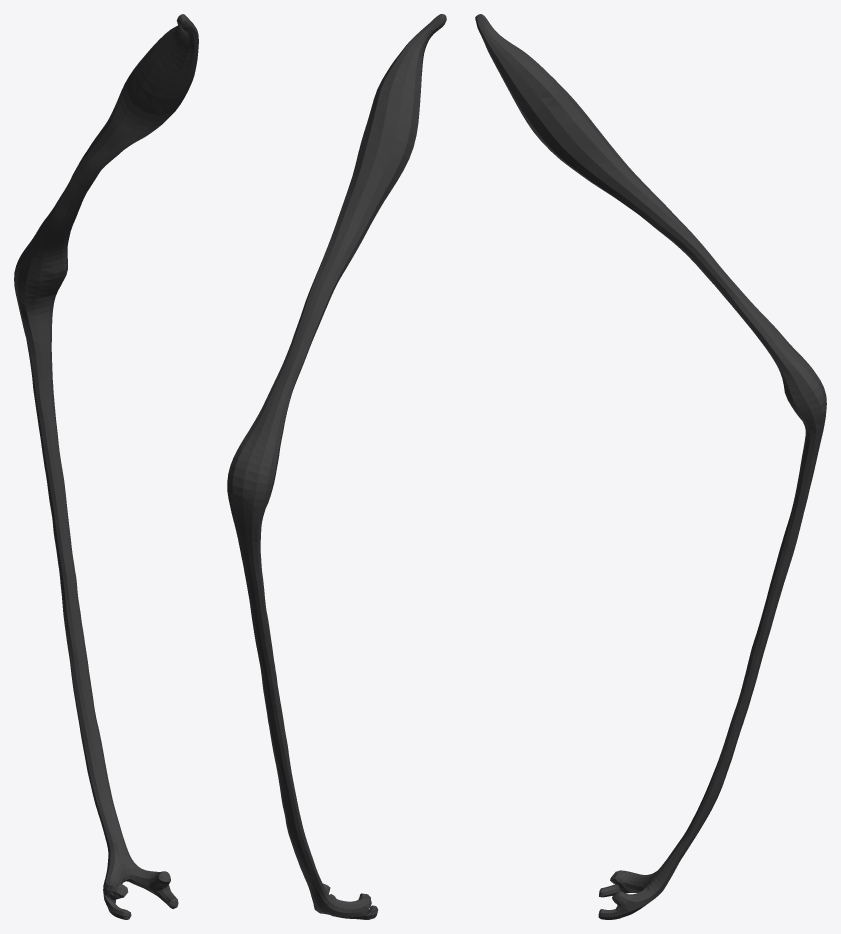
File: SDF.glb
3 renders of one model, left to right at view 1: azimuth 30°, elevation 25°; view 2: azimuth 150°, elevation 25°; view 3: azimuth 270°, elevation 25°, orthographic. The views are drawn at different scales.
Visible parts, largest first — view 1: SDF; view 2: SDF; view 3: SDF.
Part boxes in pixels (x1=…): SDF: x1=14, y1=14, x2=198, y2=919; SDF: x1=227, y1=14, x2=446, y2=919; SDF: x1=475, y1=14, x2=826, y2=919.
Size of the model in its own units: 14.26 by 180 by 65.27.
Materials: 1 (1 with a texture image).
